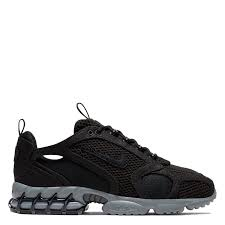nike: (79, 143, 131, 173)
